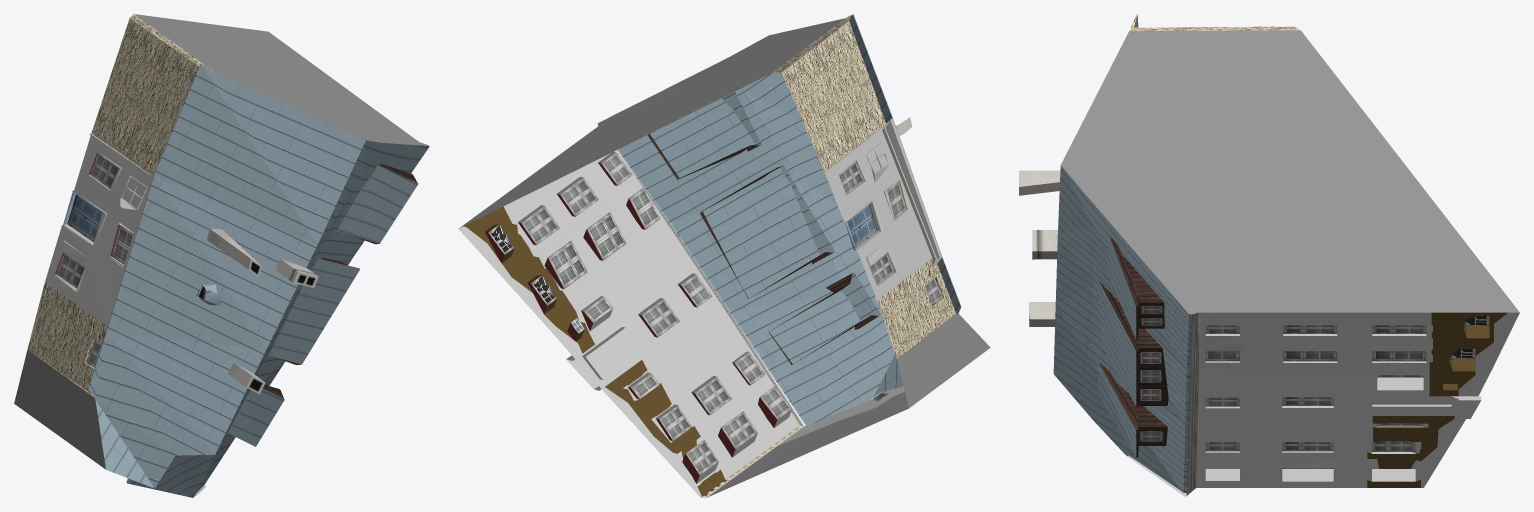
Rendered from Pikk_jalg_5-origo.obj.
3 renders of one model, left to right at view 1: azimuth 30°, elevation 25°; view 2: azimuth 150°, elevation 25°; view 3: azimuth 270°, elevation 25°, orthographic. The views are drawn at different scales.
Visible parts, largest first — view 1: Pikk_jalg_5; view 2: Pikk_jalg_5; view 3: Pikk_jalg_5.
Part boxes in pixels (<box>): Pikk_jalg_5: <box>14,14,429,497</box>; Pikk_jalg_5: <box>458,14,990,497</box>; Pikk_jalg_5: <box>1019,14,1519,497</box>.
Bounding box in the file's own units: 19.44 × 22 × 21.29.
